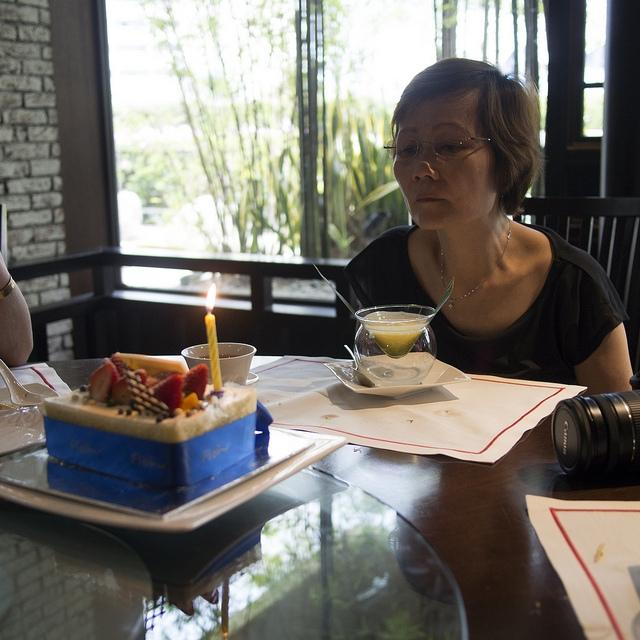strawberry: (110, 369, 148, 405), (89, 361, 120, 403), (152, 374, 184, 412), (181, 363, 208, 400), (111, 353, 136, 378)
